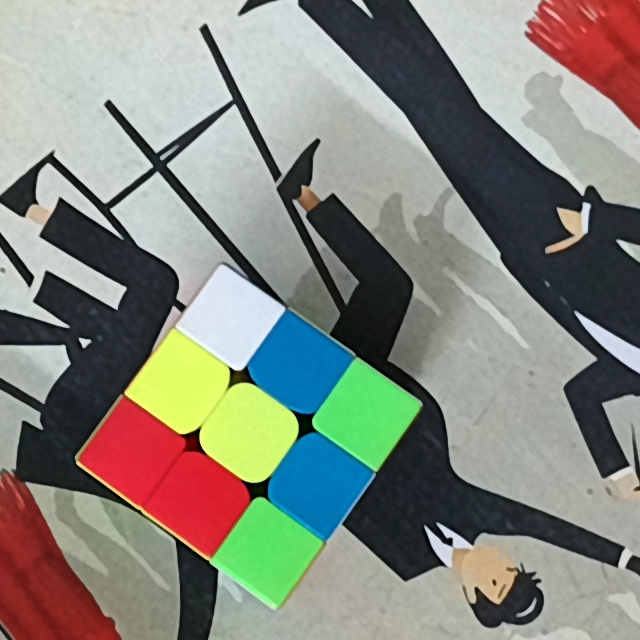tile: (269, 337, 327, 396), (220, 406, 278, 464), (290, 454, 347, 512), (337, 388, 397, 441), (170, 476, 231, 527), (240, 524, 294, 580), (152, 358, 206, 413), (201, 295, 259, 346), (106, 426, 160, 479)
